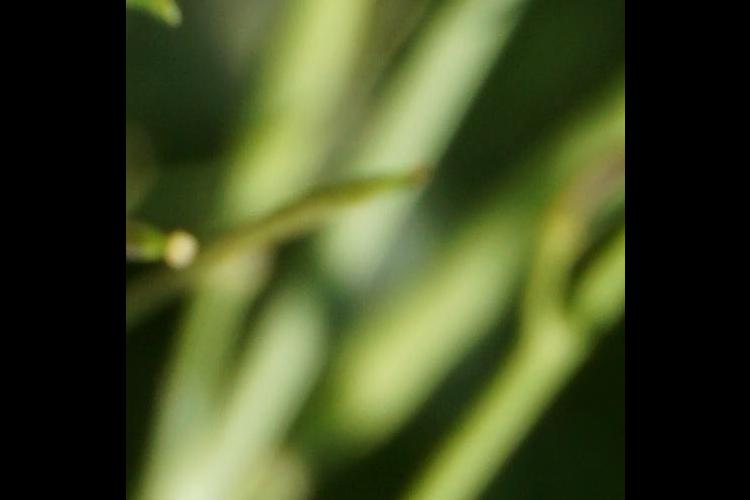pod: (200, 156, 441, 288), (137, 211, 217, 297)
